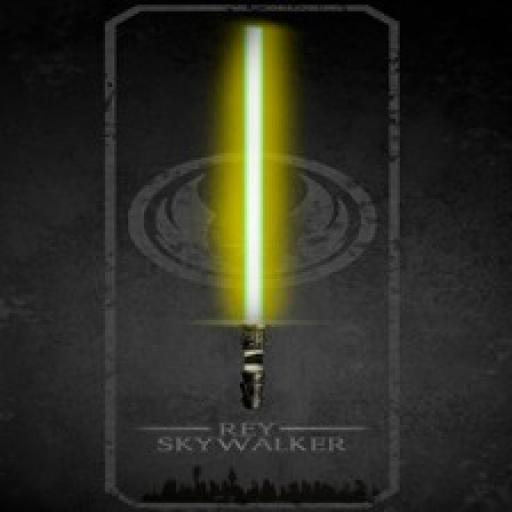lightsaber: (230, 24, 275, 413)
